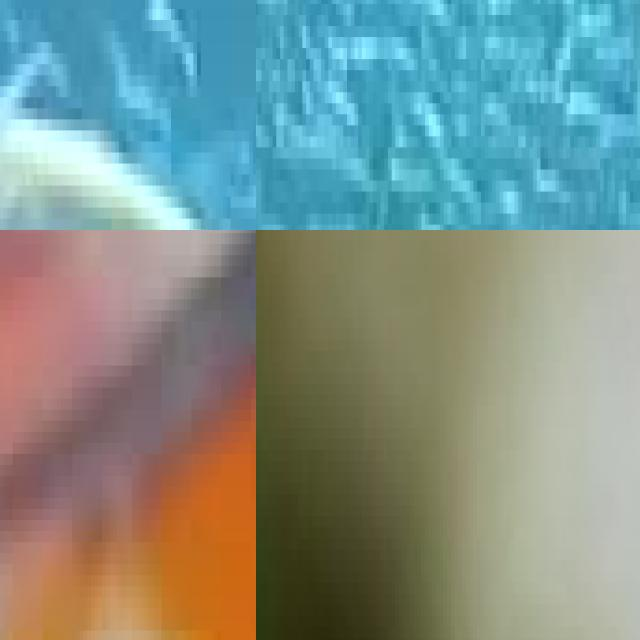fish: (0, 9, 256, 230), (256, 230, 372, 549)
